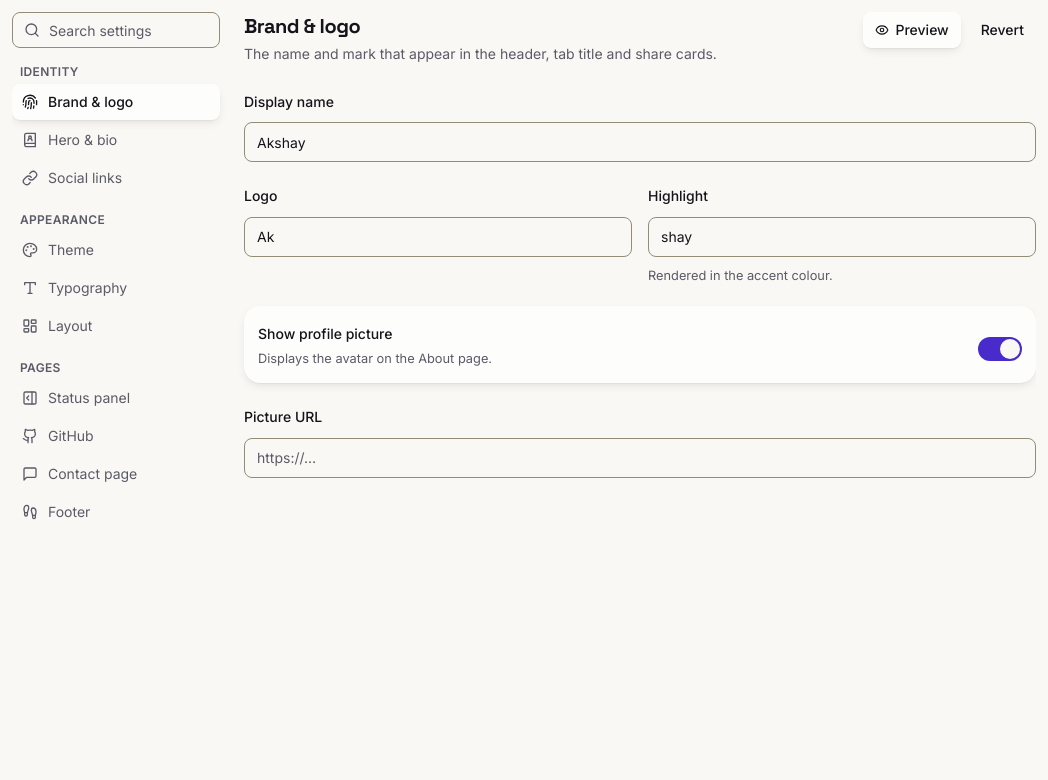
SettingsPage save all › discards every dirty group at once
The width and height of the screenshot is (1048, 780).
Step 1. Replace the text in the field labelled "Display name" with "Akshay B" → point(640, 142), box top-left (244, 122), bottom-right (1036, 162)
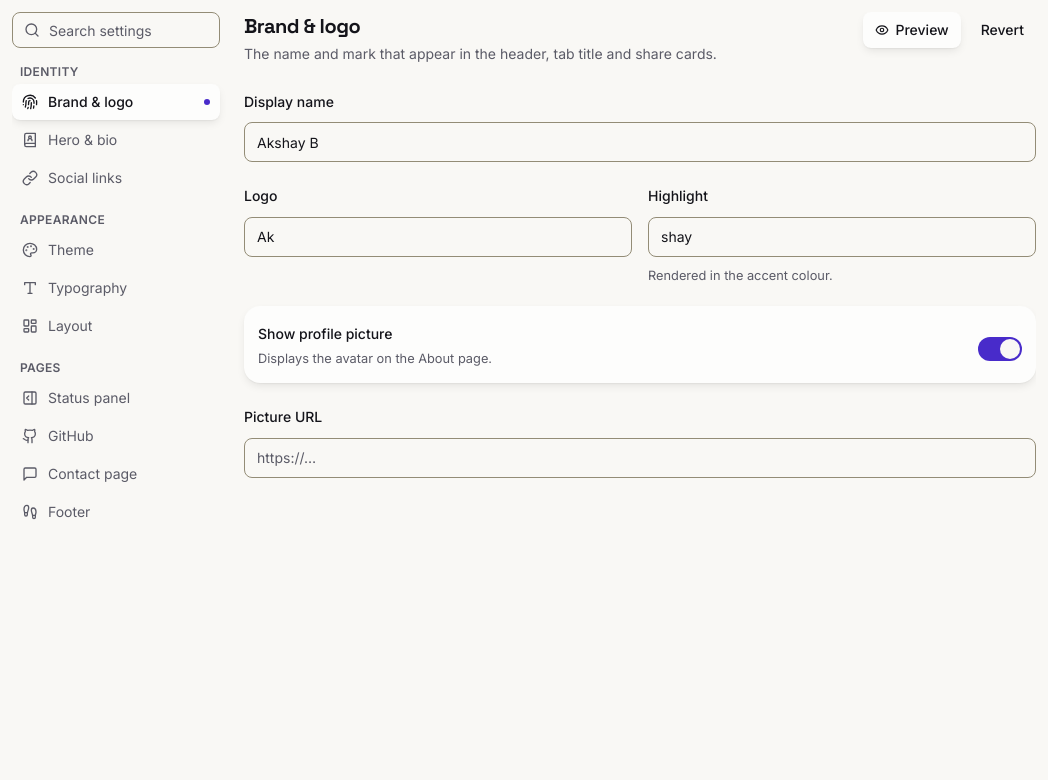
Step 2. Click the button "Footer" → point(116, 512), box top-left (12, 494), bottom-right (220, 530)
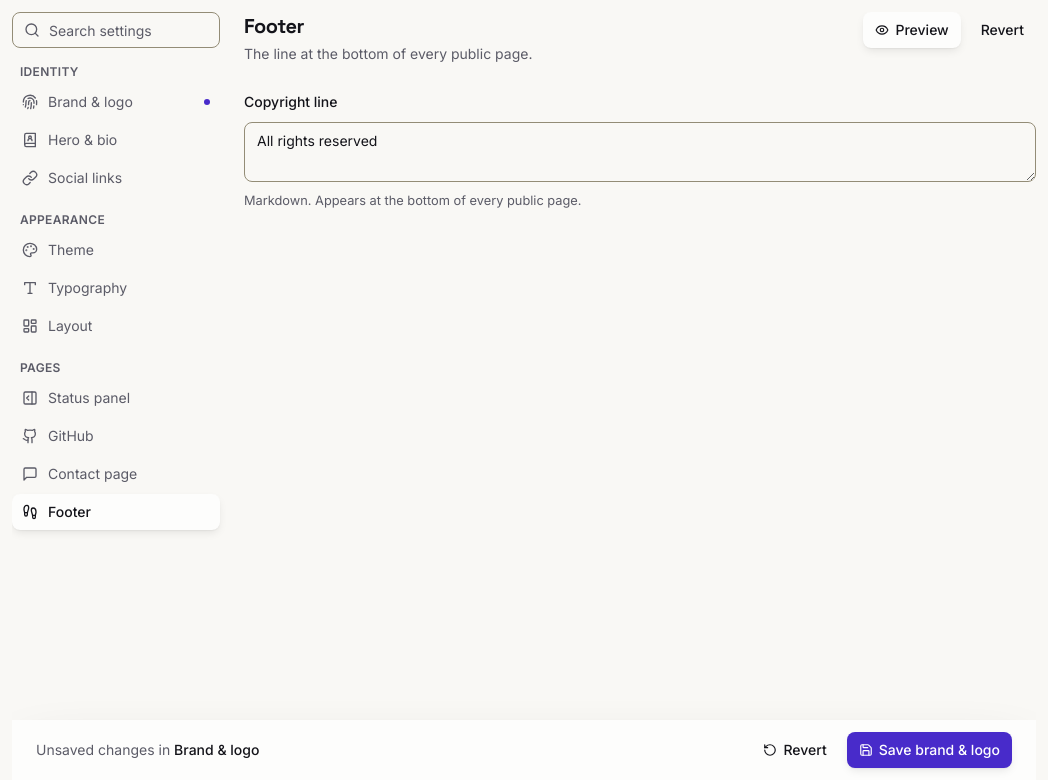
Step 3. Replace the text in the text box labelled "Copyright line" with "© 2026" → point(640, 152), box top-left (244, 122), bottom-right (1036, 182)
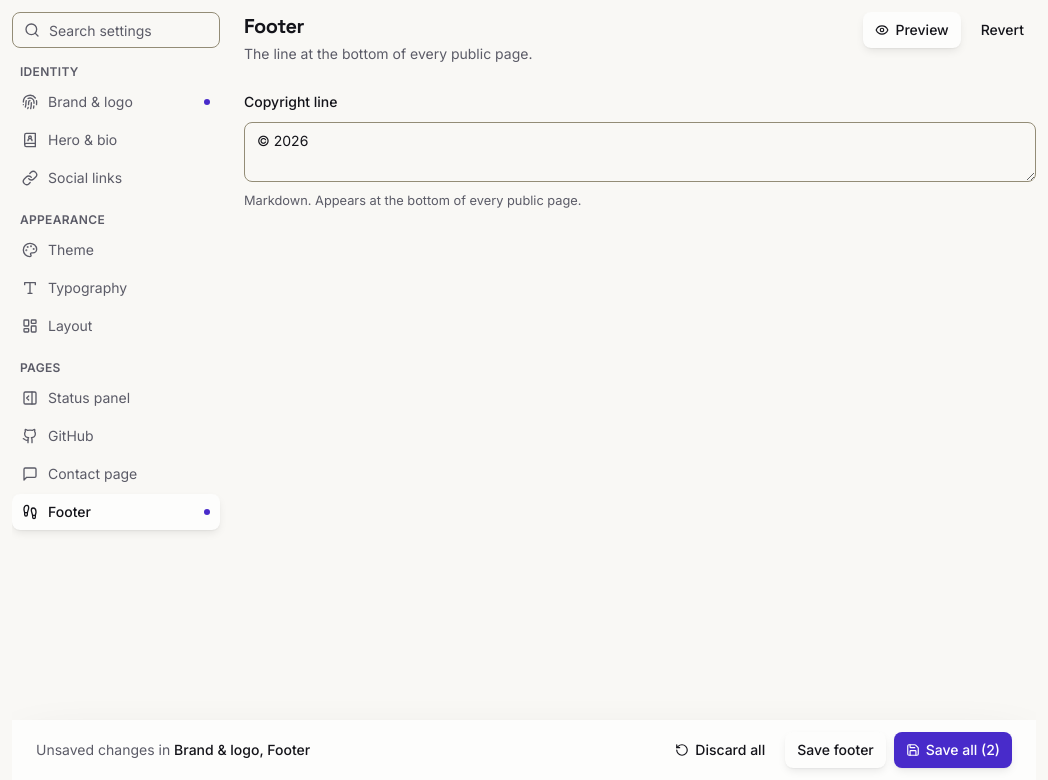
Step 4. Click the button "Discard all" → point(720, 750), box top-left (663, 732), bottom-right (777, 768)
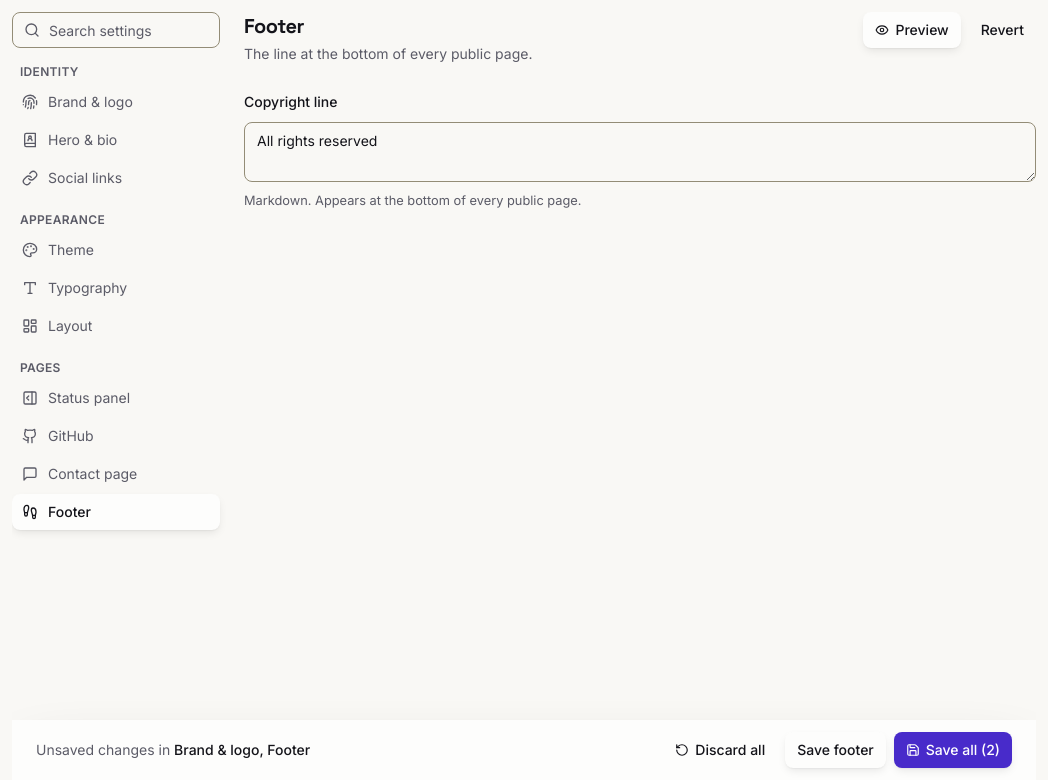
Check: the text box labelled "Copyright line" holds "All rights reserved", box top-left (244, 122), bottom-right (1036, 182)
Step 5. Click the button "Brand & logo" → point(116, 102), box top-left (12, 84), bottom-right (220, 120)
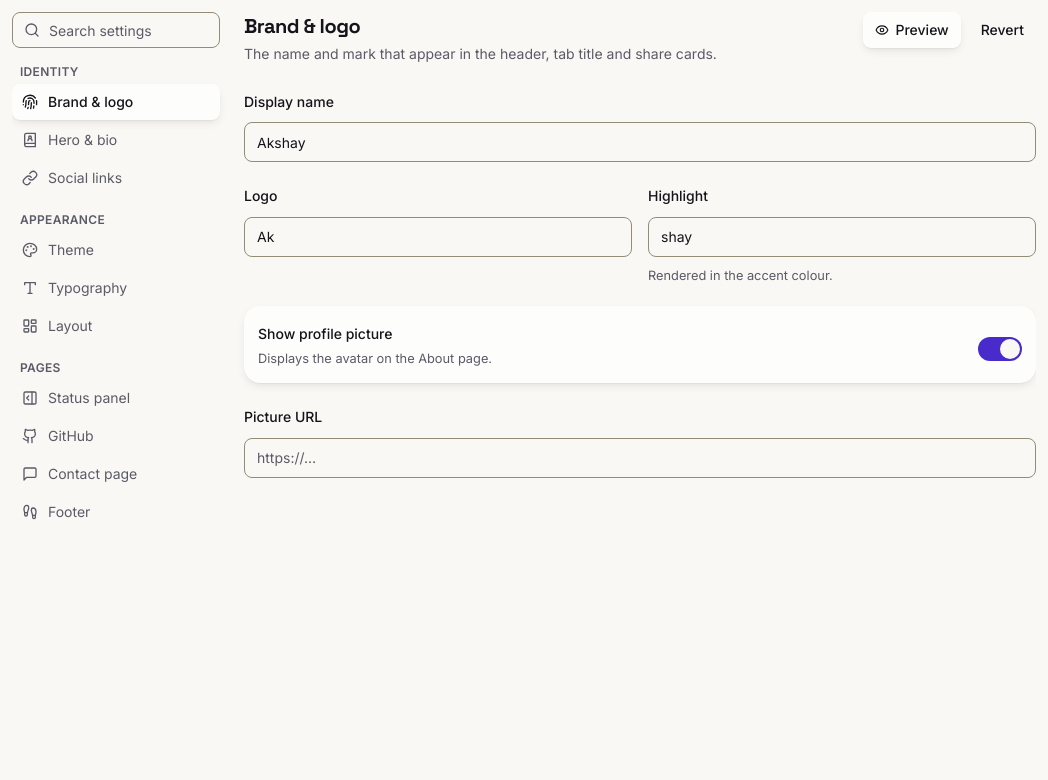
Check: the field labelled "Display name" holds "Akshay", box top-left (244, 122), bottom-right (1036, 162)
